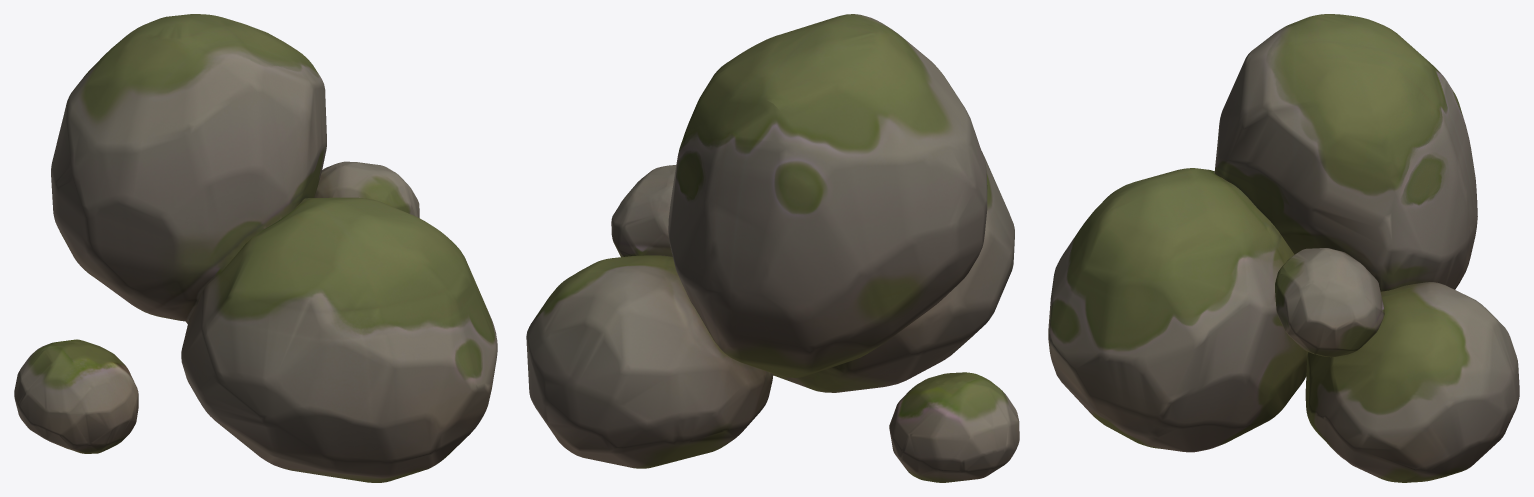
The picture shows the model from 3 angles, left to right: view 1: azimuth 30°, elevation 25°; view 2: azimuth 150°, elevation 25°; view 3: azimuth 270°, elevation 25°; orthographic projection. The views are drawn at different scales.
Visible parts, largest first — view 1: tripo_node_aa9ac5b7; view 2: tripo_node_aa9ac5b7; view 3: tripo_node_aa9ac5b7.
Part boxes in pixels (box(x1,y1,x2,y2)): tripo_node_aa9ac5b7: box(14, 14, 497, 482); tripo_node_aa9ac5b7: box(526, 14, 1019, 482); tripo_node_aa9ac5b7: box(1048, 14, 1519, 482).
Bounding box in the file's own units: 0.9341 × 0.8823 × 0.9995.
Materials: 1 (1 with a texture image).
